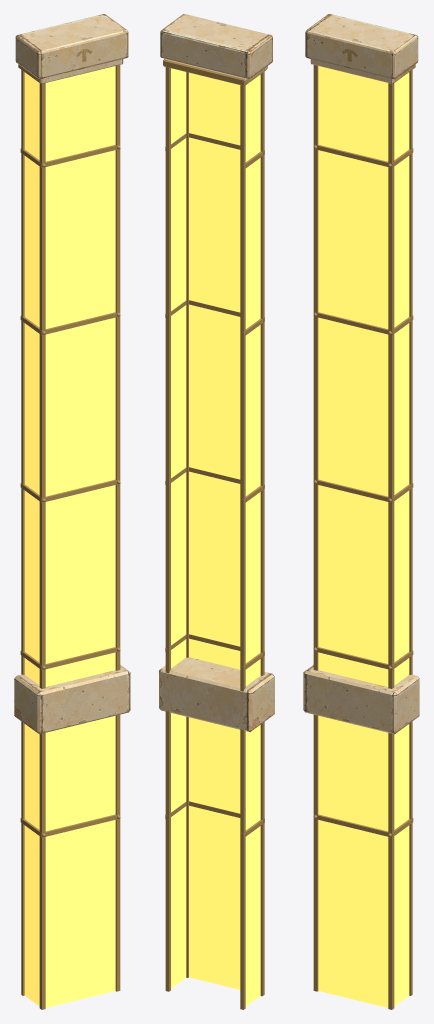
The picture shows the model from 3 angles, left to right: view 1: azimuth 30°, elevation 25°; view 2: azimuth 150°, elevation 25°; view 3: azimuth 330°, elevation 25°; orthographic projection.
Parts seen in each view (by area): view 1: pillar_glass_glass, house_paint, seaside_stone; view 2: pillar_glass_glass, house_paint, seaside_stone; view 3: pillar_glass_glass, house_paint, seaside_stone.
Boxes of the visible parts, box(x1,y1,x2,y2) form: pillar_glass_glass: box(24, 66, 115, 1007); house_paint: box(18, 49, 120, 1009); seaside_stone: box(14, 14, 130, 734); pillar_glass_glass: box(171, 68, 260, 1006); house_paint: box(163, 59, 266, 1009); seaside_stone: box(159, 14, 274, 731); pillar_glass_glass: box(318, 66, 409, 1007); house_paint: box(313, 49, 415, 1009); seaside_stone: box(303, 14, 419, 734).
Bounding box in the file's own units: 1.4 × 13.78 × 0.67.
Materials: 3 (2 with a texture image).
